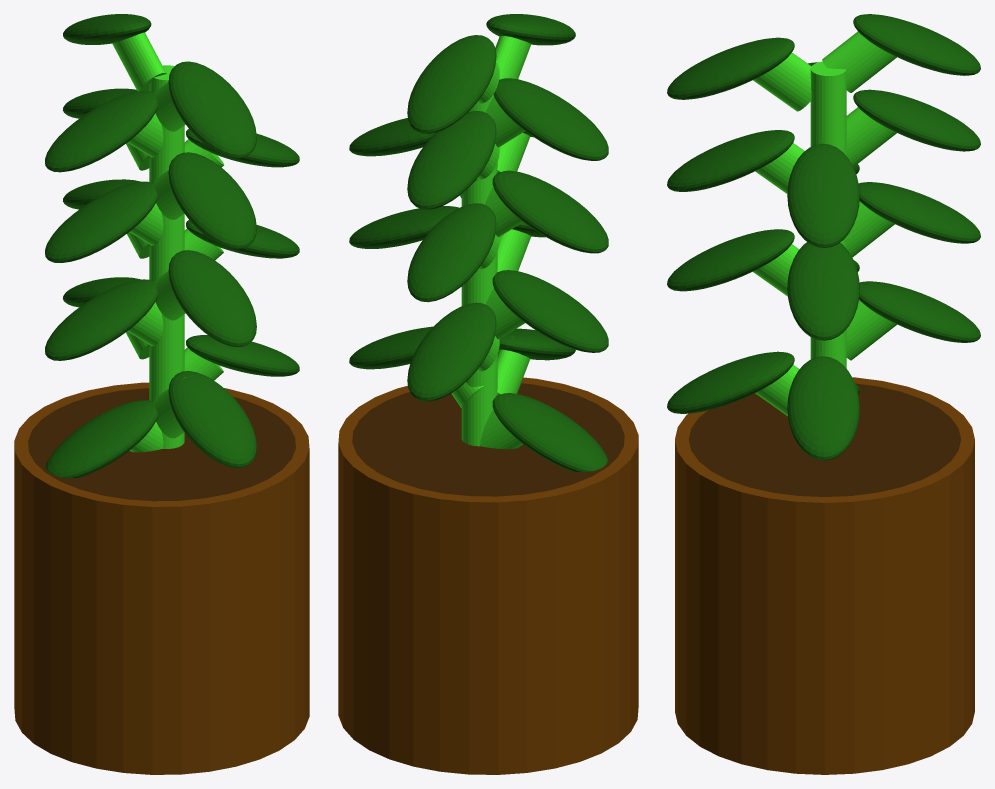
Rendered from working plant.glb.
3 views of the same model, side by side, from view 1: azimuth 30°, elevation 25°; view 2: azimuth 150°, elevation 25°; view 3: azimuth 270°, elevation 25° (orthographic).
Parts seen in each view (by area): view 1: Cylinder.012, Cylinder.014, Sphere.009, Sphere.007, Sphere.008, Sphere.010, Cylinder, Sphere.001, Sphere.002, Sphere.003, Sphere, Sphere.006 (+17 smaller); view 2: Cylinder.012, Cylinder.014, Sphere.012, Sphere.013, Sphere.015, Sphere.011, Sphere.001, Sphere.002, Sphere.003, Sphere, Cylinder, Sphere.005 (+12 smaller); view 3: Cylinder.012, Cylinder.014, Sphere.006, Sphere.004, Sphere.005, Sphere.009, Sphere.007, Sphere.010, Sphere.008, Sphere.011, Sphere.015, Sphere.012 (+10 smaller).
Part boxes in pixels (x1,y1,x2,y2): Cylinder.012: (14,382,309,774); Cylinder.014: (28,388,295,501); Sphere.009: (168,250,256,347); Sphere.007: (168,61,256,158); Sphere.008: (168,152,256,249); Sphere.010: (168,371,256,467); Cylinder: (149,65,184,448); Sphere.001: (45,279,157,360); Sphere.002: (45,181,157,262); Sphere.003: (45,90,157,172); Sphere: (45,400,157,478); Sphere.006: (186,335,299,376); Cylinder.012: (338,377,638,774); Cylinder.014: (352,383,624,496); Sphere.012: (407,203,496,302); Sphere.013: (407,302,496,401); Sphere.015: (407,35,496,133); Sphere.011: (407,111,496,209); Sphere.001: (492,270,608,352); Sphere.002: (492,170,608,253); Sphere.003: (493,78,608,160); Sphere: (492,393,607,472); Cylinder: (461,61,497,446); Sphere.005: (349,206,459,248); Cylinder.012: (675,377,974,774); Cylinder.014: (688,383,960,496); Sphere.006: (787,356,859,460); Sphere.004: (787,143,859,247); Sphere.005: (787,242,859,340); Sphere.009: (667,229,794,291); Sphere.007: (667,37,794,99); Sphere.010: (667,351,794,413); Sphere.008: (667,130,794,191); Sphere.011: (853,89,980,151); Sphere.015: (853,14,980,75); Sphere.012: (858,182,980,243).
Size of the model in its own units: 2.98 by 7.36 by 3.04.
